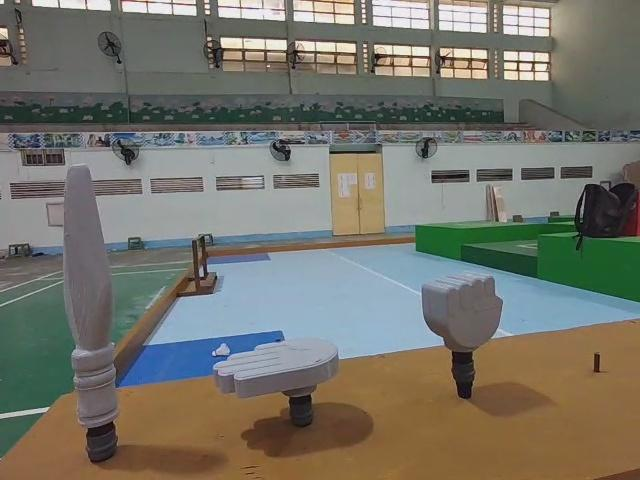Fist: (423, 275, 504, 401)
Hand: (216, 331, 342, 431)
Sph: (52, 154, 114, 467)
